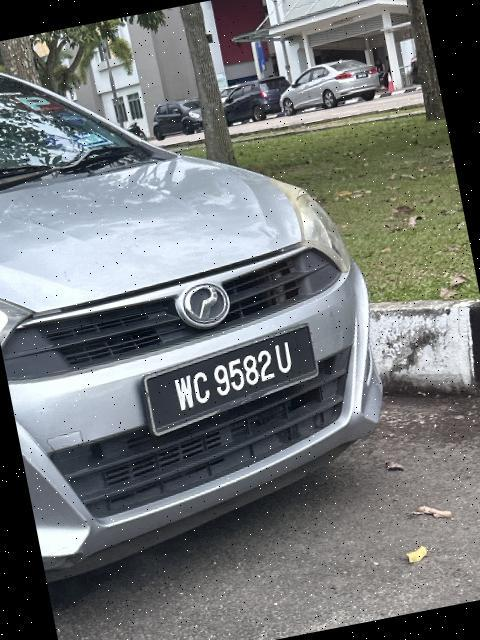License_Plate: (133, 320, 331, 446)
WC9582U: (133, 320, 331, 446)
car: (1, 1, 428, 640)
